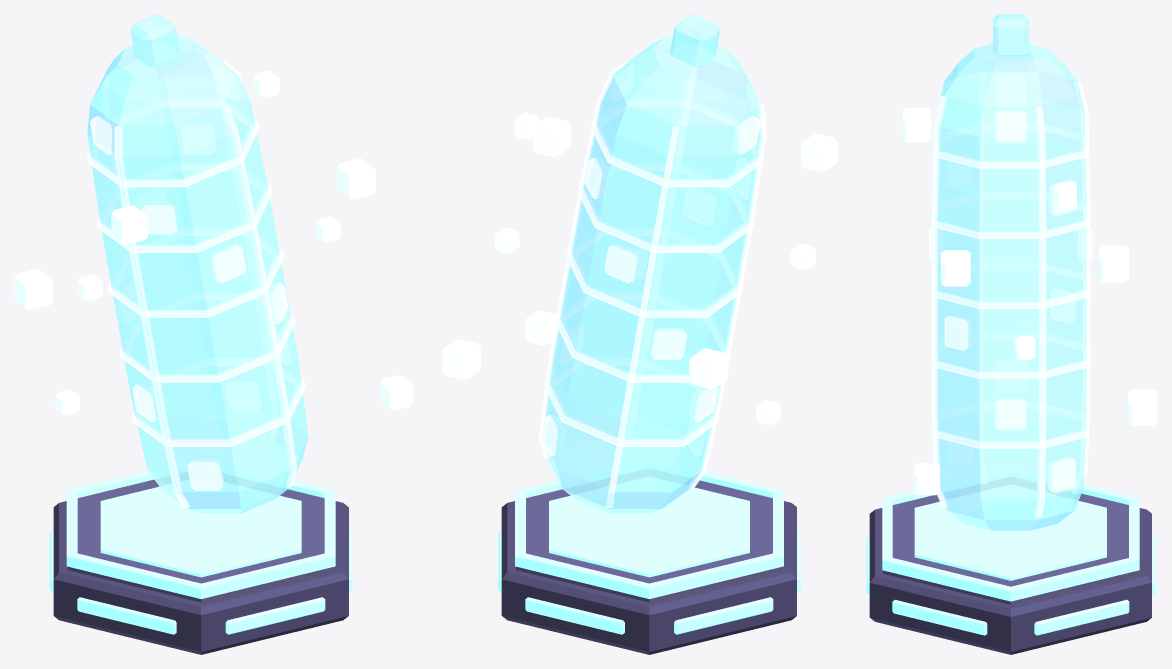
File: NeonHologramCucumber.fbx
3 renders of one model, left to right at view 1: azimuth 30°, elevation 25°; view 2: azimuth 150°, elevation 25°; view 3: azimuth 270°, elevation 25°, orthographic. The views are drawn at different scales.
Parts seen in each view (by area): view 1: NeonHologramCucumber.Holo, NeonHologramCucumber.ScanLines, NeonHologramCucumber.Strips, NeonHologramCucumber.Pedestal, NeonHologramCucumber.Pixels, NeonHologramCucumber.PedestalTop; view 2: NeonHologramCucumber.Holo, NeonHologramCucumber.ScanLines, NeonHologramCucumber.Strips, NeonHologramCucumber.Pedestal, NeonHologramCucumber.Pixels, NeonHologramCucumber.PedestalTop; view 3: NeonHologramCucumber.Holo, NeonHologramCucumber.ScanLines, NeonHologramCucumber.Strips, NeonHologramCucumber.Pedestal, NeonHologramCucumber.Pixels, NeonHologramCucumber.PedestalTop.
Boxes of the visible parts, left/top/right/bottom form: NeonHologramCucumber.Holo: left=87, top=14, right=308, bottom=513; NeonHologramCucumber.ScanLines: left=87, top=52, right=305, bottom=508; NeonHologramCucumber.Strips: left=49, top=470, right=352, bottom=634; NeonHologramCucumber.Pedestal: left=53, top=501, right=348, bottom=654; NeonHologramCucumber.Pixels: left=14, top=70, right=413, bottom=415; NeonHologramCucumber.PedestalTop: left=67, top=479, right=334, bottom=602; NeonHologramCucumber.Holo: left=545, top=14, right=762, bottom=513; NeonHologramCucumber.ScanLines: left=538, top=61, right=766, bottom=508; NeonHologramCucumber.Strips: left=498, top=471, right=800, bottom=634; NeonHologramCucumber.Pedestal: left=501, top=501, right=796, bottom=654; NeonHologramCucumber.Pixels: left=442, top=112, right=837, bottom=425; NeonHologramCucumber.PedestalTop: left=516, top=480, right=782, bottom=602; NeonHologramCucumber.Holo: left=935, top=14, right=1086, bottom=530; NeonHologramCucumber.ScanLines: left=929, top=72, right=1092, bottom=517; NeonHologramCucumber.Strips: left=866, top=484, right=1155, bottom=635; NeonHologramCucumber.Pedestal: left=869, top=508, right=1151, bottom=654; NeonHologramCucumber.Pixels: left=902, top=107, right=1157, bottom=495; NeonHologramCucumber.PedestalTop: left=883, top=493, right=1138, bottom=604.
Bounding box in the file's own units: 2.84 × 5.03 × 2.42.
